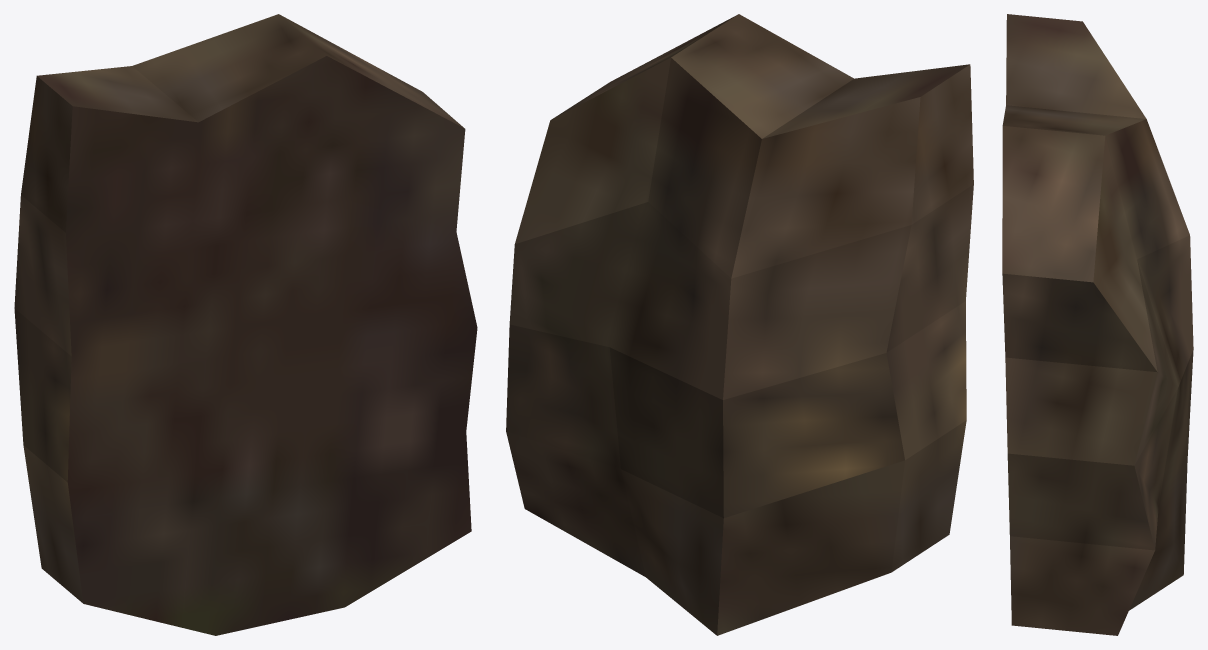
File: SM_DeadTree_Debris_5.fbx
3 views of the same model, side by side, from view 1: azimuth 30°, elevation 25°; view 2: azimuth 150°, elevation 25°; view 3: azimuth 270°, elevation 25° (orthographic). The views are drawn at different scales.
Visible parts, largest first — view 1: SM_DeadTree_Debris_5; view 2: SM_DeadTree_Debris_5; view 3: SM_DeadTree_Debris_5.
Boxes of the visible parts, x1,y1,x2,y2 form: SM_DeadTree_Debris_5: [14, 14, 477, 635]; SM_DeadTree_Debris_5: [506, 14, 973, 635]; SM_DeadTree_Debris_5: [1002, 14, 1193, 635].
Size of the model in its own units: 15.35 by 19.97 by 7.04.
